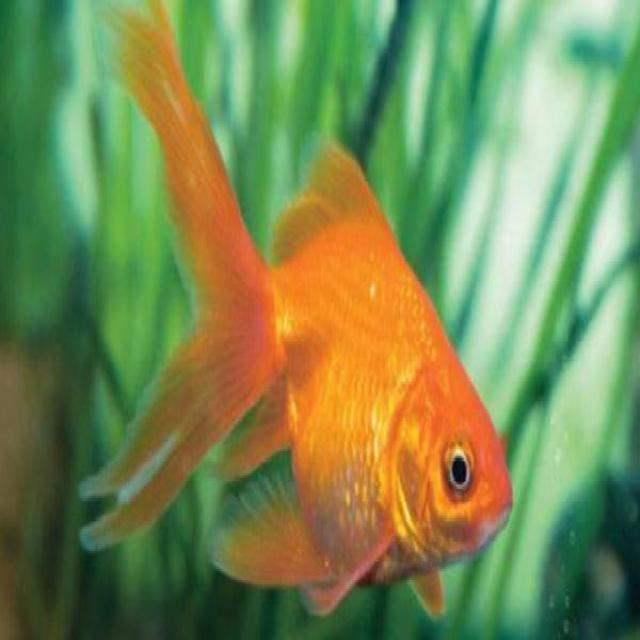GoldFish: (78, 10, 516, 621)
